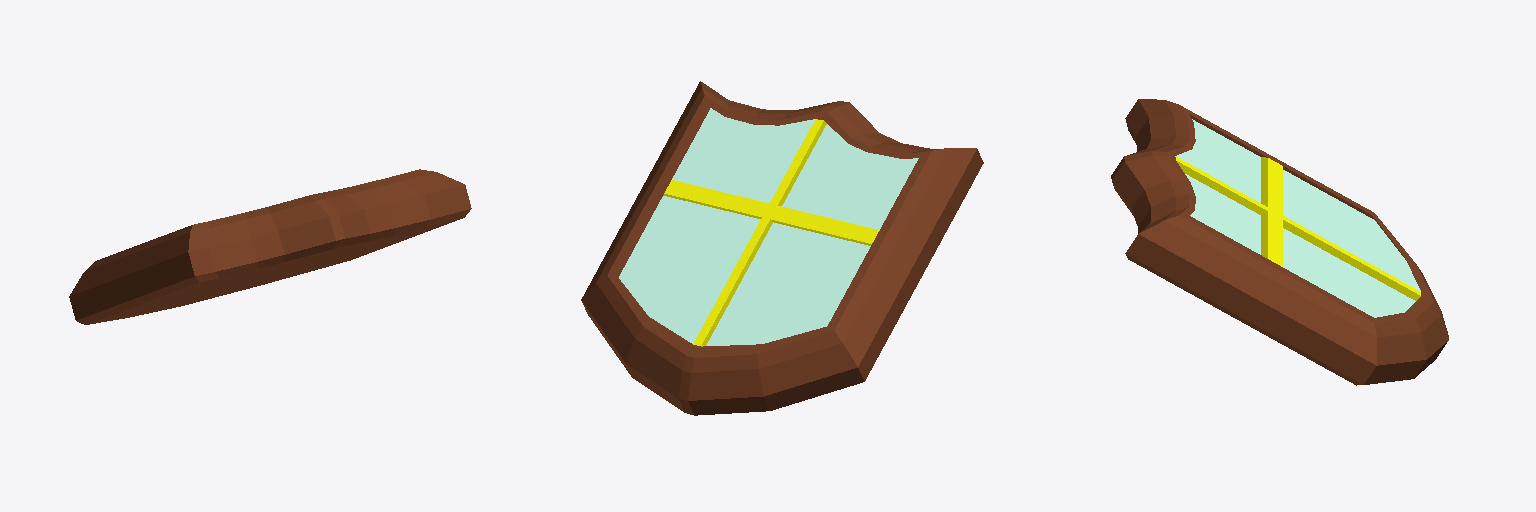
Rendered from escudo.obj.
3 views of the same model, side by side, from view 1: azimuth 30°, elevation 25°; view 2: azimuth 150°, elevation 25°; view 3: azimuth 270°, elevation 25° (orthographic).
Parts seen in each view (by area): view 1: polySurface6 polySurface1; view 2: polySurface6 polySurface1; view 3: polySurface6 polySurface1.
Part boxes in pixels (left/top/right/bottom): polySurface6 polySurface1: left=69, top=169, right=471, bottom=324; polySurface6 polySurface1: left=581, top=81, right=983, bottom=415; polySurface6 polySurface1: left=1111, top=99, right=1448, bottom=385.
Size of the model in its own units: 1.4 by 0.9947 by 1.48.